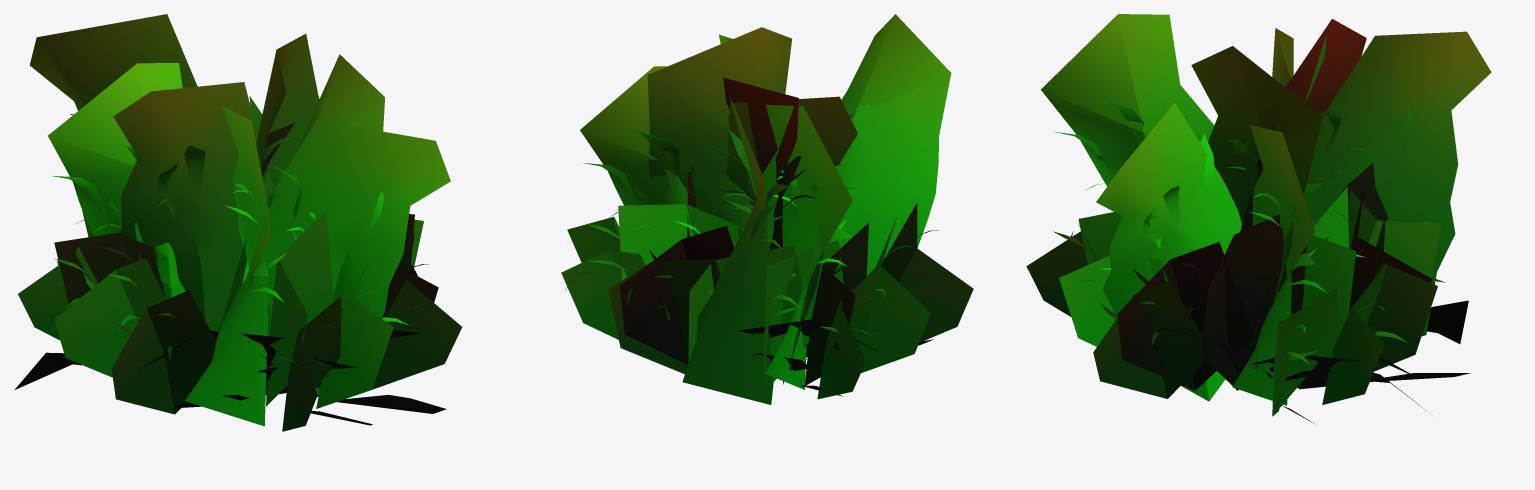
The model's file is Grass_Long_Mesh.fbx.
3 renders of one model, left to right at view 1: azimuth 30°, elevation 25°; view 2: azimuth 150°, elevation 25°; view 3: azimuth 270°, elevation 25°, orthographic. The views are drawn at different scales.
Visible parts, largest first — view 1: Grass_Long_LOD0; view 2: Grass_Long_LOD0; view 3: Grass_Long_LOD0.
Boxes of the visible parts, x1,y1,x2,y2 form: Grass_Long_LOD0: (14, 14, 462, 431); Grass_Long_LOD0: (561, 14, 973, 404); Grass_Long_LOD0: (1026, 14, 1491, 423).
Bounding box in the file's own units: 247 × 220 × 290.
